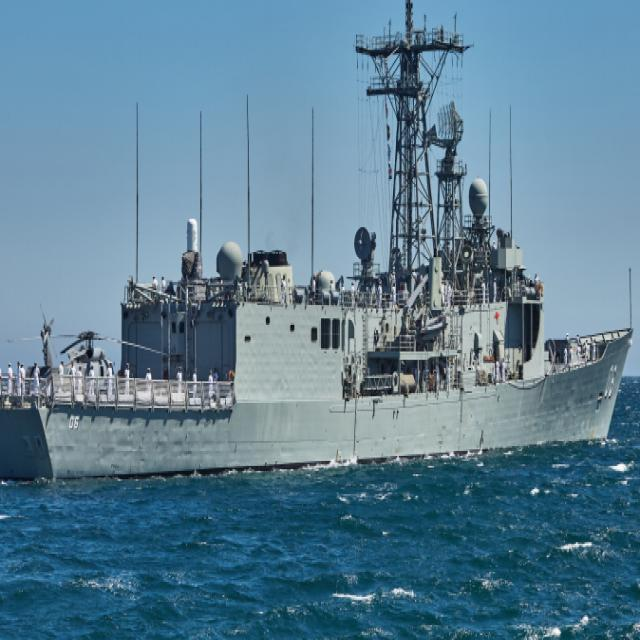Fragata: (1, 1, 637, 493)
